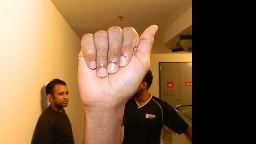Pugno: (70, 21, 160, 106)
